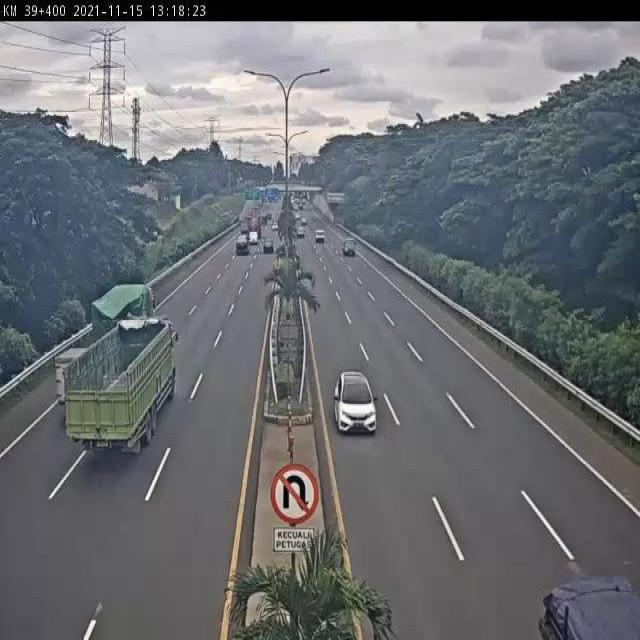car: (334, 367, 378, 437)
truck-l-: (65, 319, 180, 456)
truck-m-: (52, 283, 159, 407)
